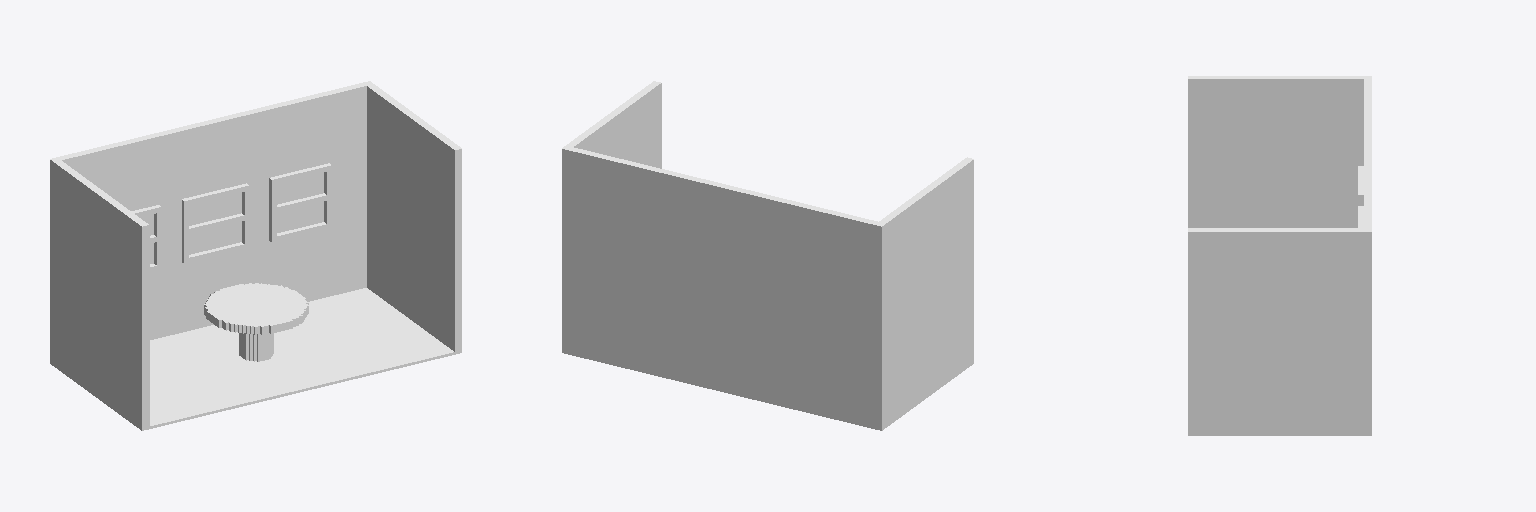
The model's file is LevelBG.obj.
3 views of the same model, side by side, from view 1: azimuth 30°, elevation 25°; view 2: azimuth 150°, elevation 25°; view 3: azimuth 270°, elevation 25° (orthographic).
Visible parts, largest first — view 1: object 1; view 2: object 1; view 3: object 1.
Part boxes in pixels (x1,y1,x2,y2): object 1: (50, 81, 461, 430); object 1: (562, 81, 973, 430); object 1: (1188, 76, 1371, 435).
Size of the model in its own units: 12.8 by 7.8 by 6.4.